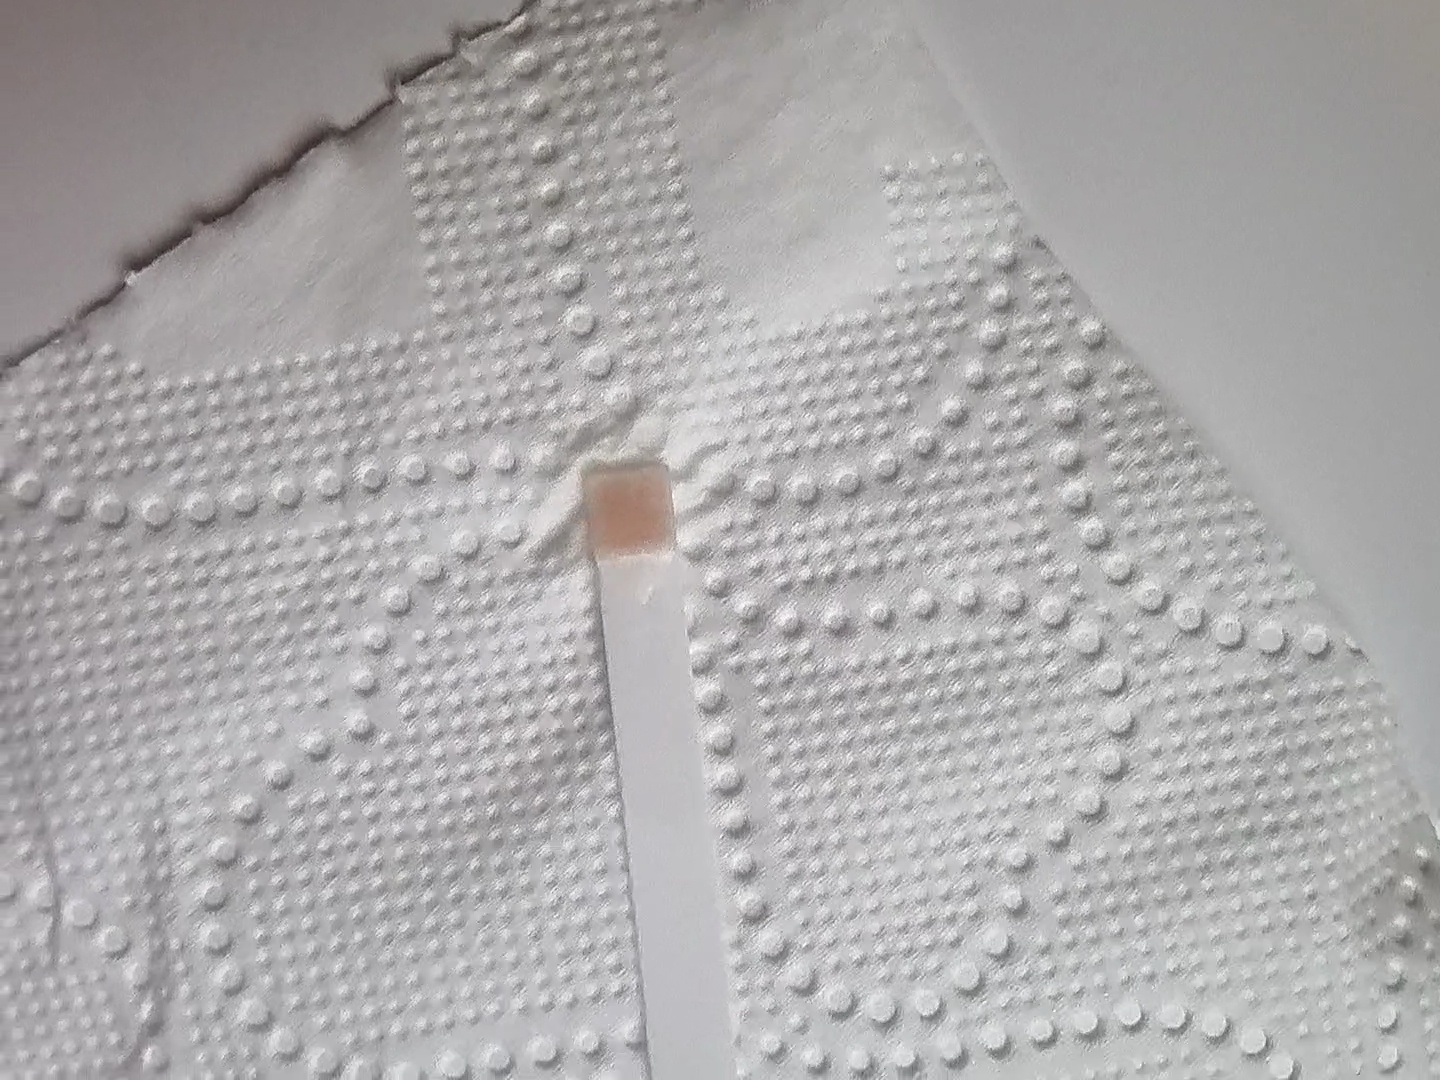keto-tip: (579, 457, 683, 568)
